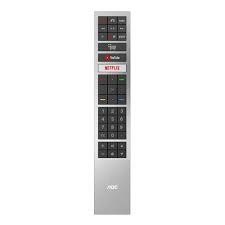remote control: (93, 11, 132, 217)
